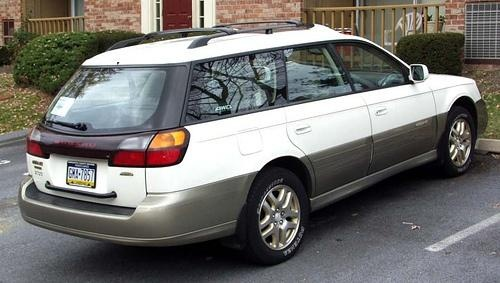car: (19, 20, 489, 266)
